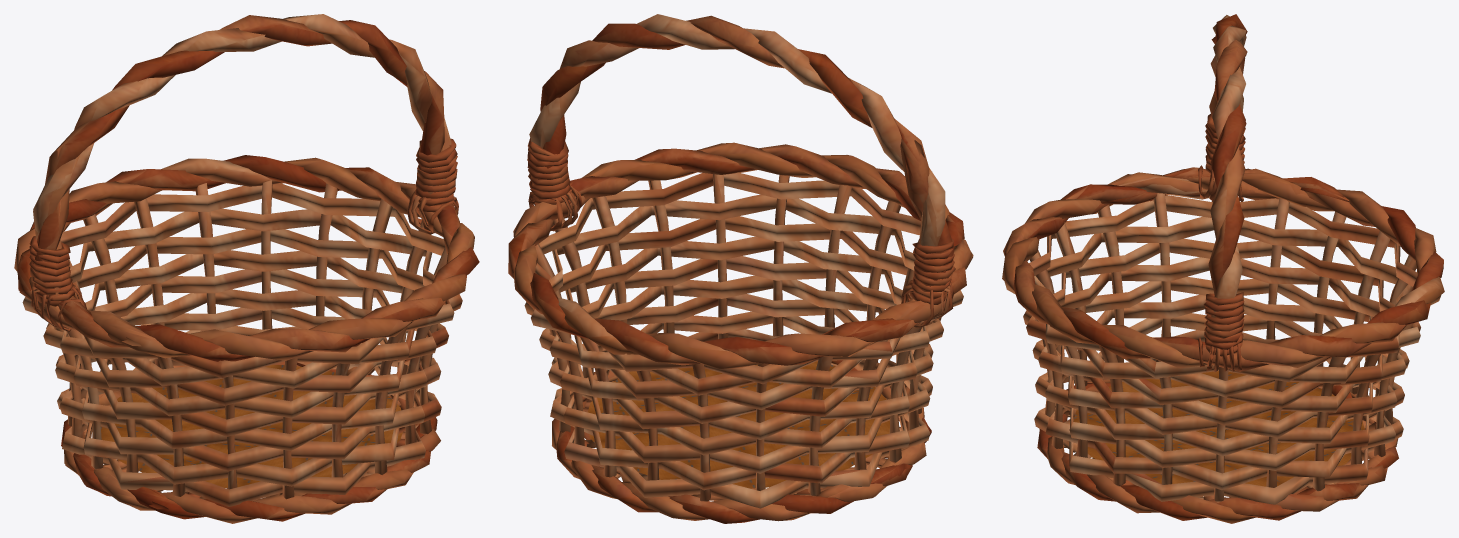
File: cestino_LODs.fbx
3 views of the same model, side by side, from view 1: azimuth 30°, elevation 25°; view 2: azimuth 150°, elevation 25°; view 3: azimuth 270°, elevation 25° (orthographic). The views are drawn at different scales.
Parts seen in each view (by area): view 1: Basket_LOD0; view 2: Basket_LOD0; view 3: Basket_LOD0.
Part boxes in pixels (x1,y1,x2,y2): Basket_LOD0: [14, 14, 479, 523]; Basket_LOD0: [508, 14, 973, 523]; Basket_LOD0: [1002, 14, 1444, 523].
Size of what is drawn, in the model's own units: 12.7 by 12.41 by 12.05.
